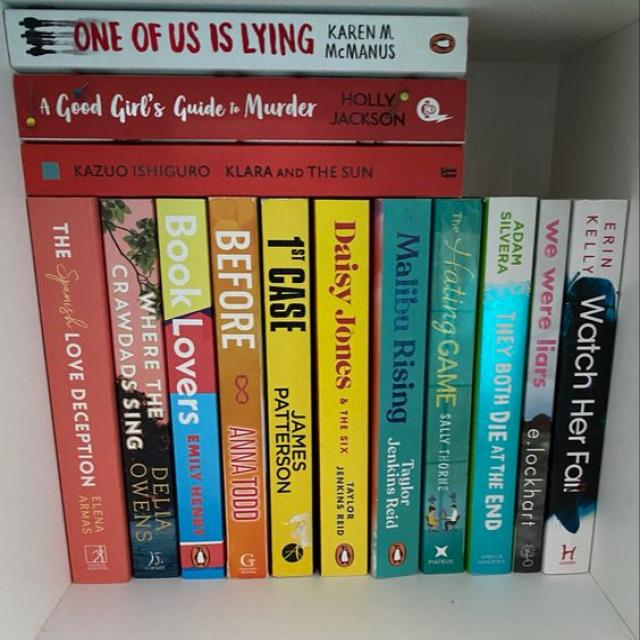book: (28, 198, 129, 583), (16, 75, 465, 144), (542, 200, 625, 572), (6, 10, 466, 76), (101, 200, 178, 577), (469, 198, 537, 573), (157, 200, 224, 578), (370, 199, 431, 577), (23, 144, 463, 196), (209, 198, 267, 577), (421, 199, 480, 570), (513, 200, 569, 572), (315, 200, 370, 575), (261, 200, 313, 576)
